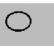no answer: (3, 11, 35, 31)
